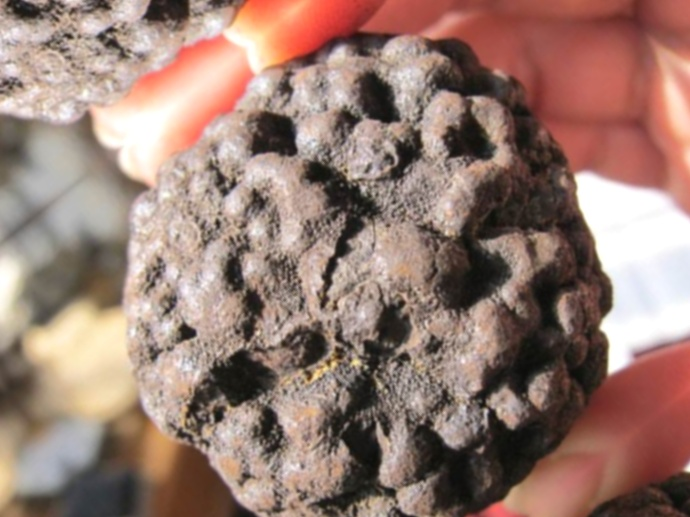halobolite: (106, 27, 604, 517)
